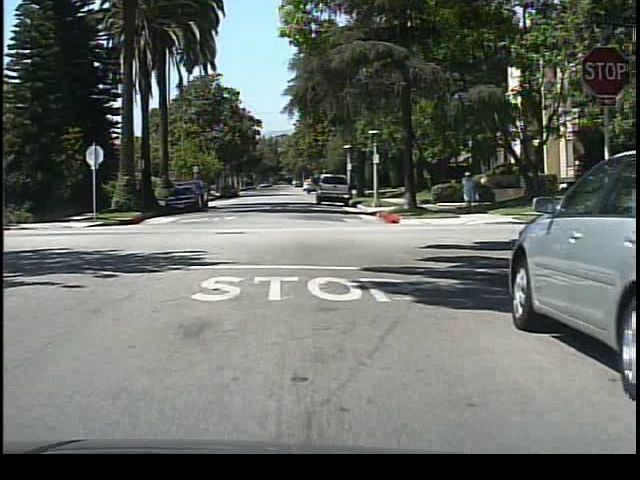person: (458, 168, 477, 215)
